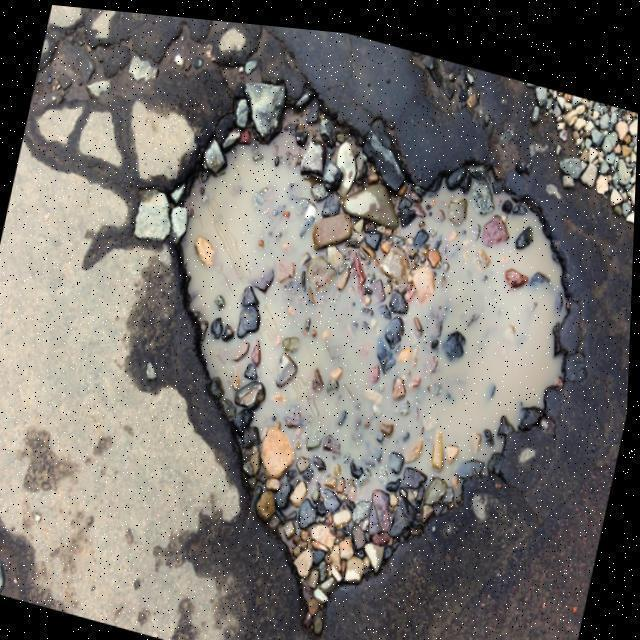Pothole: (175, 100, 558, 626)
